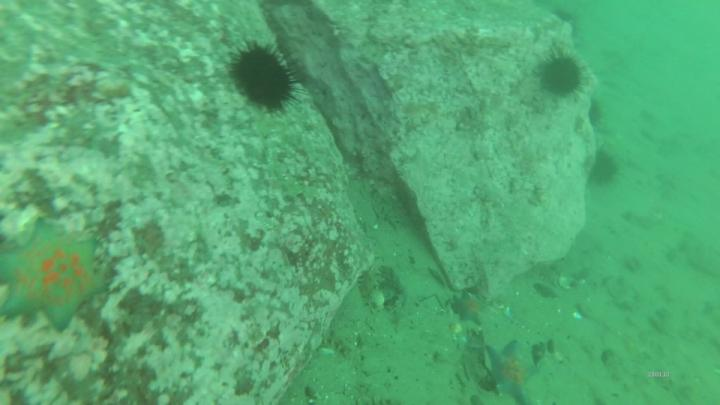echinus: (233, 46, 295, 108), (542, 56, 582, 97), (596, 151, 619, 183)
holothurian: (360, 268, 383, 311)
starfish: (4, 223, 106, 330), (486, 339, 538, 404), (455, 294, 486, 325)
